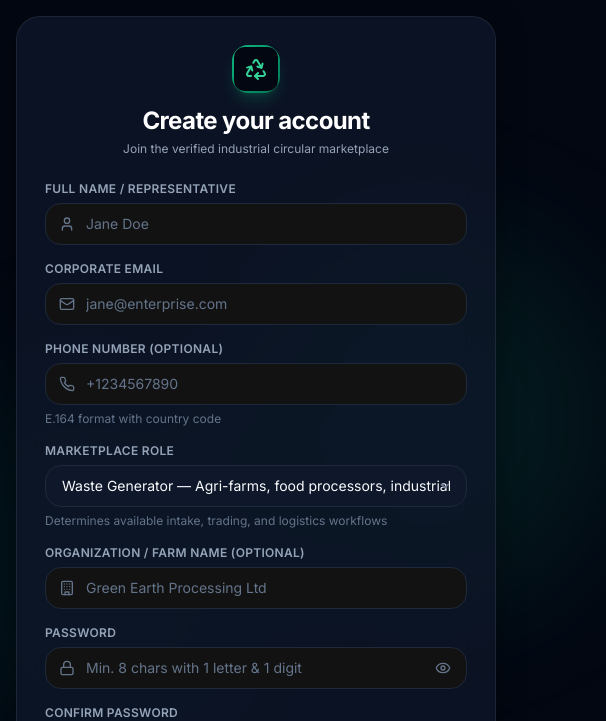
Test: <RegisterPage> › weak password failing complexity displays validation error
The image size is (606, 721).
Password lacking numeric digit
Type "OnlyLettersLong" into the password field labelled "Password". click: point(256, 668)
box: [45, 647, 467, 689]
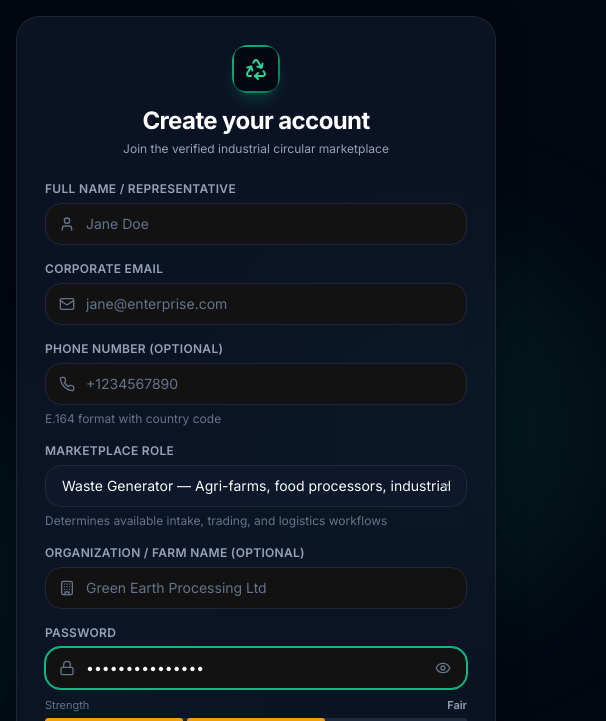
Press Tab
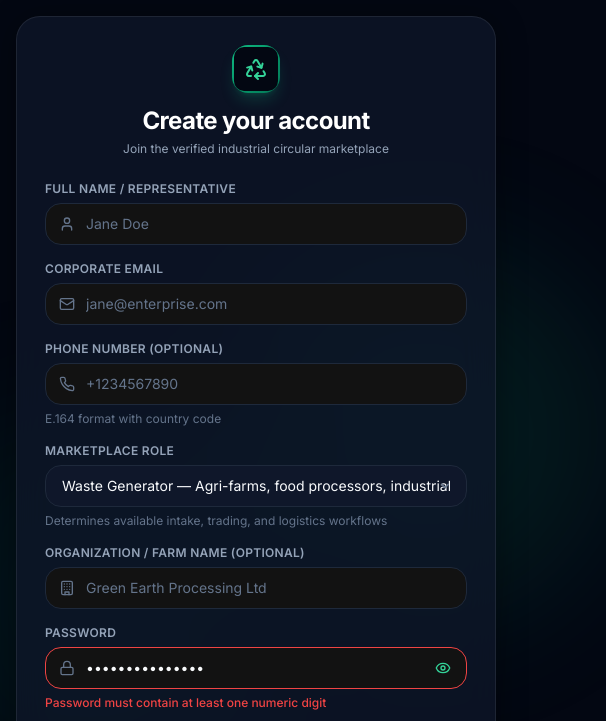
Expected: the text "Password must contain at least one numeric digit" is shown, [45, 695, 326, 710]
